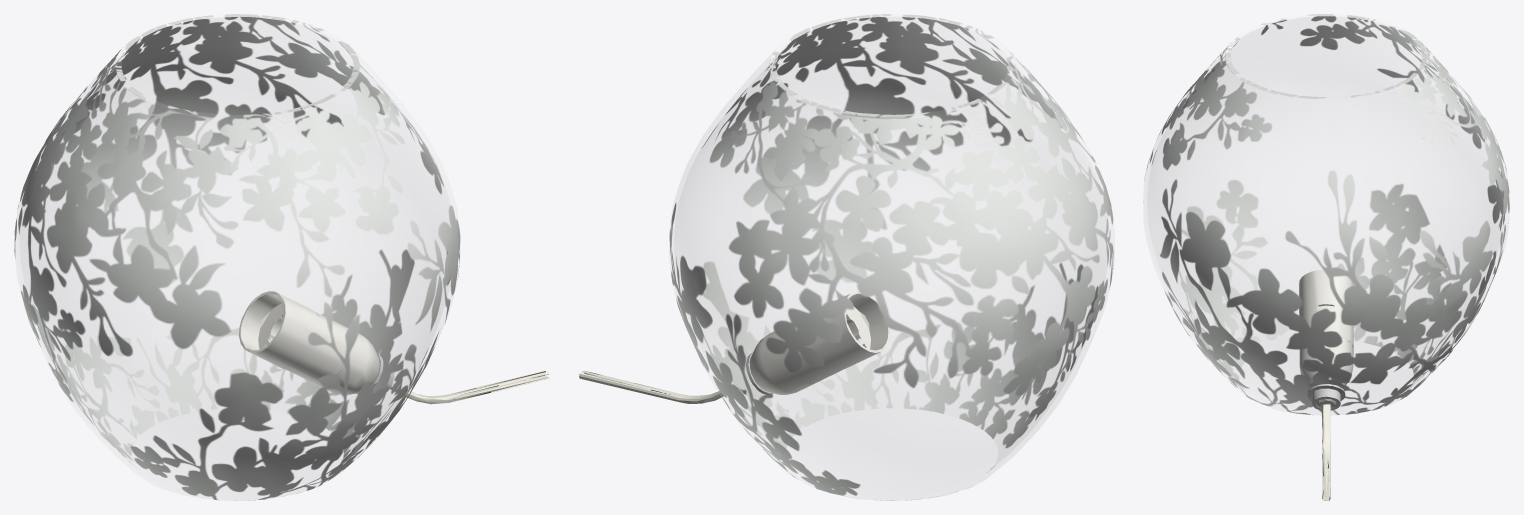
File: KNUBBIG table lamp.glb
The picture shows the model from 3 angles, left to right: view 1: azimuth 30°, elevation 25°; view 2: azimuth 150°, elevation 25°; view 3: azimuth 270°, elevation 25°; orthographic projection. The views are drawn at different scales.
Visible parts, largest first — view 1: ProcessedMeshNode; view 2: ProcessedMeshNode; view 3: ProcessedMeshNode.
Part boxes in pixels (x1=…): ProcessedMeshNode: x1=14, y1=14, x2=549, y2=500; ProcessedMeshNode: x1=579, y1=14, x2=1113, y2=500; ProcessedMeshNode: x1=1143, y1=14, x2=1509, y2=500.
Size of the model in its own units: 0.235 by 0.1732 by 0.18.
2 materials, 2 textured.
